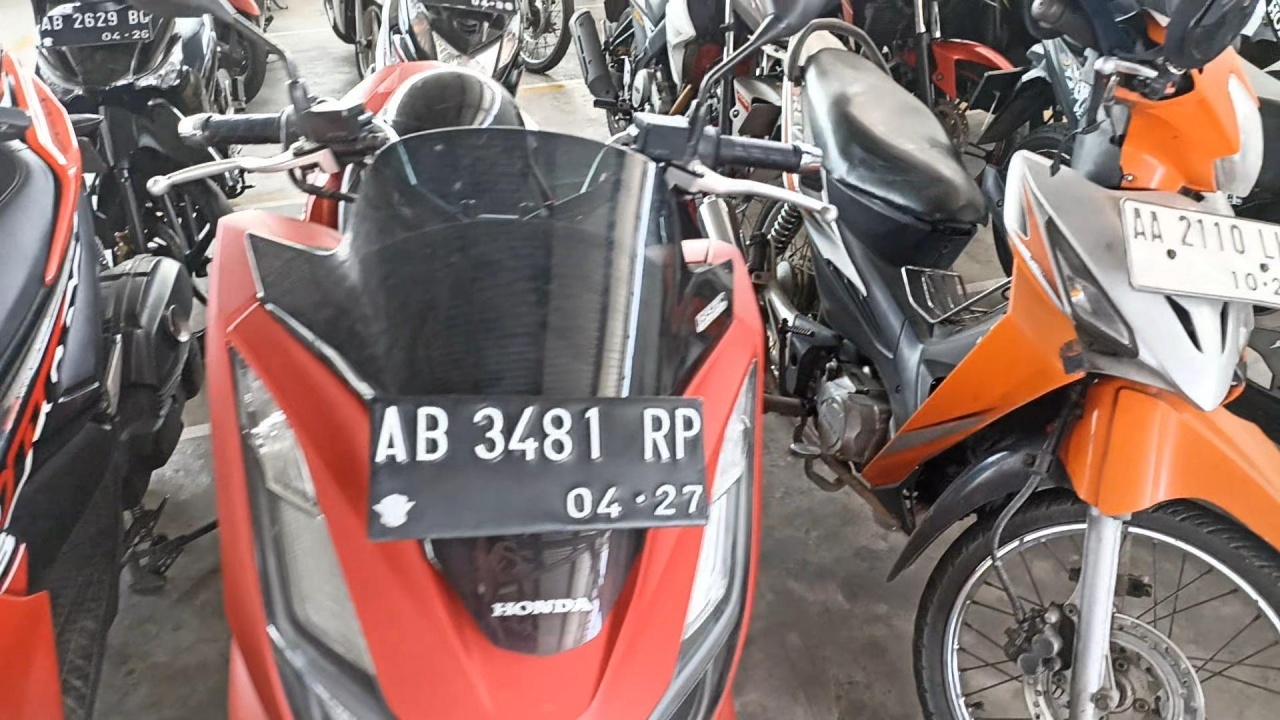plate: (369, 396, 710, 539)
